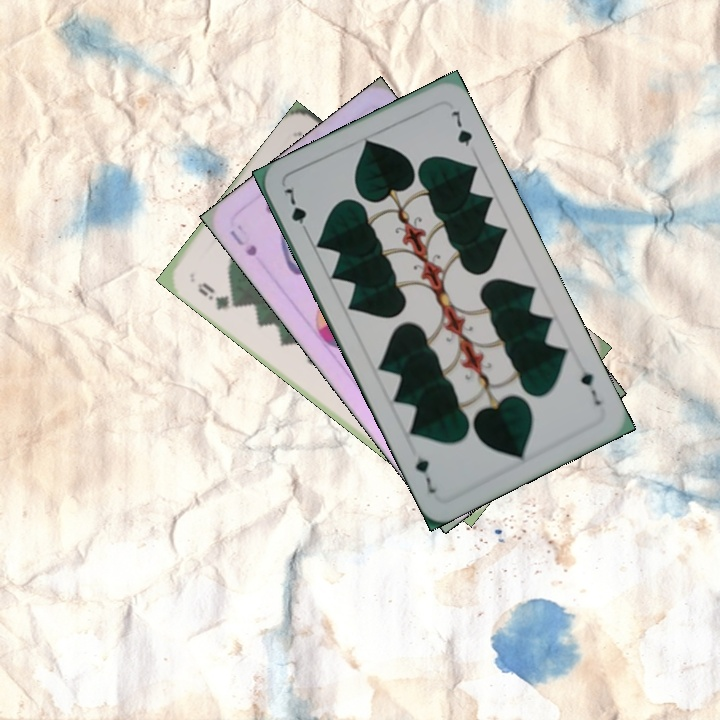G7: (280, 182, 312, 239), (576, 367, 604, 408)
G9: (193, 278, 242, 313)
SU: (226, 226, 260, 259)
